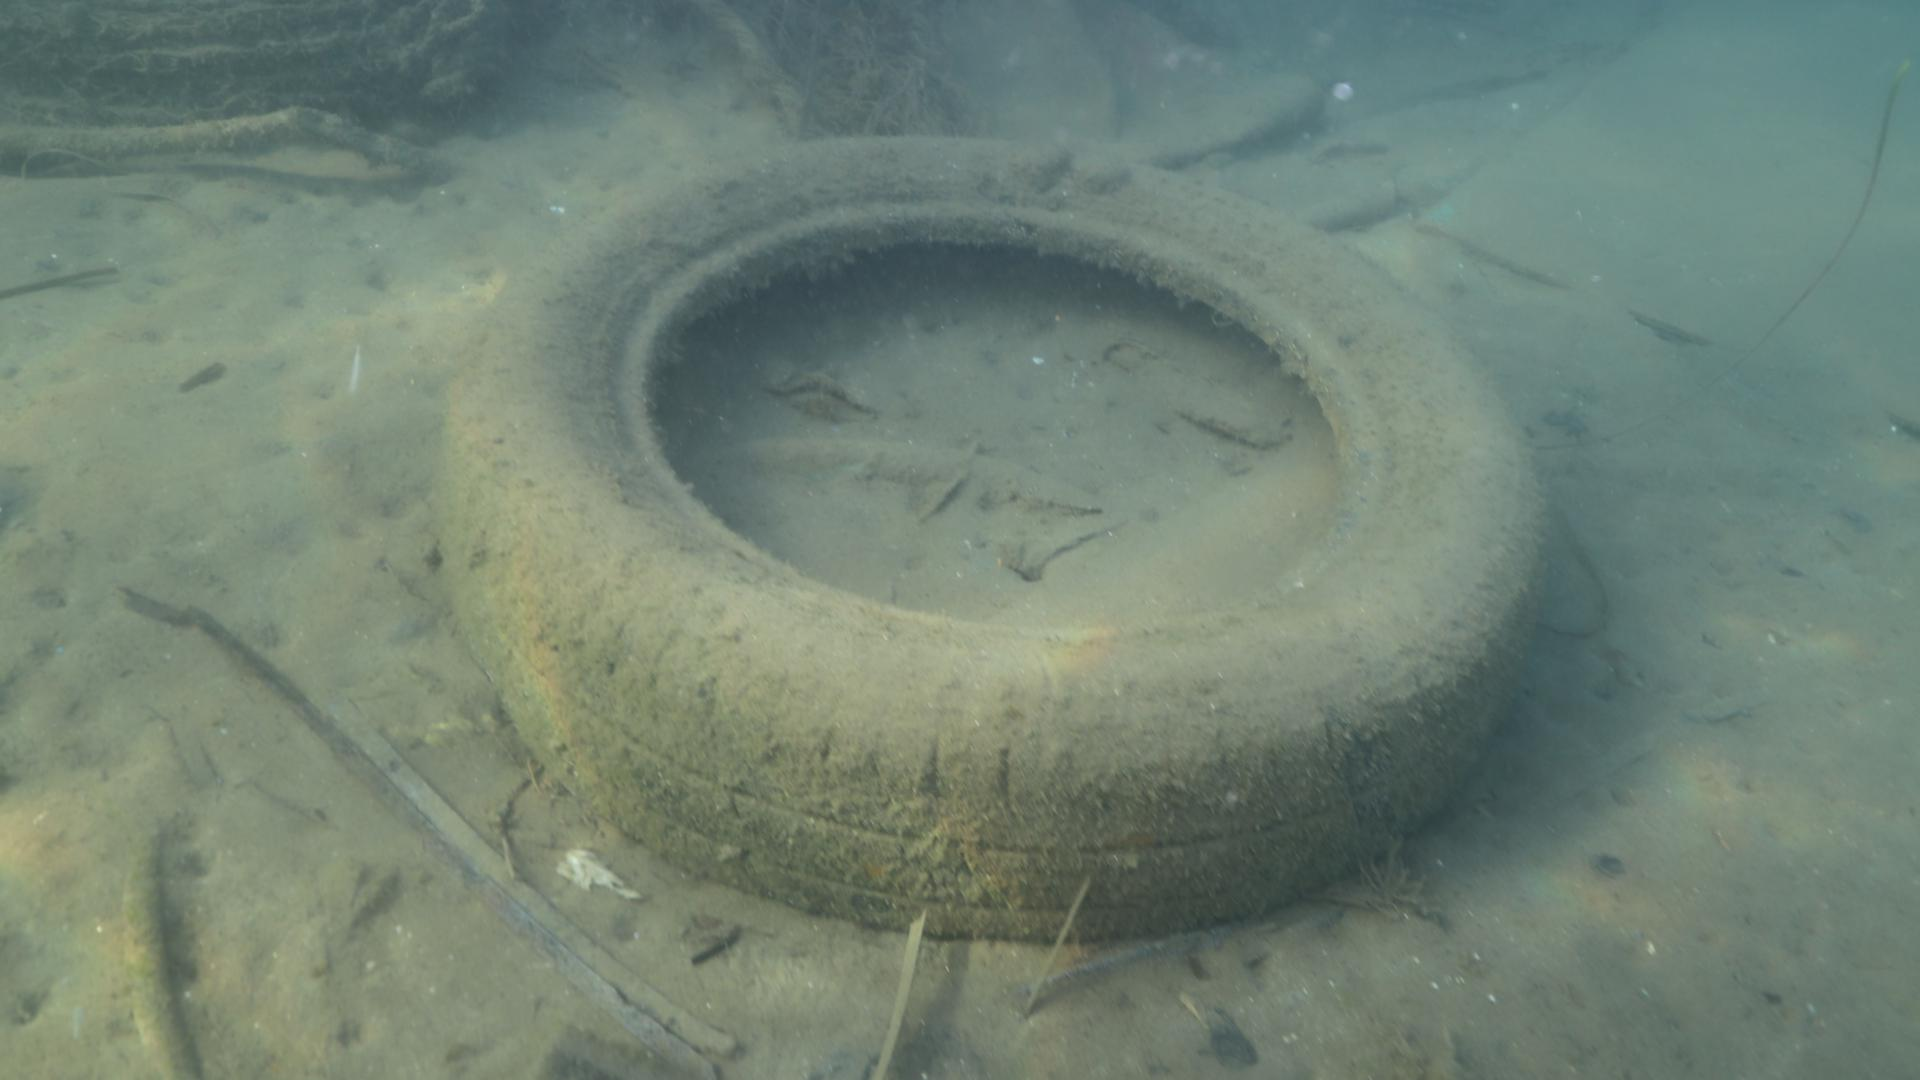tire: (435, 127, 1551, 945)
